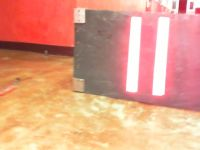switch: (151, 17, 171, 96), (125, 16, 143, 92)
